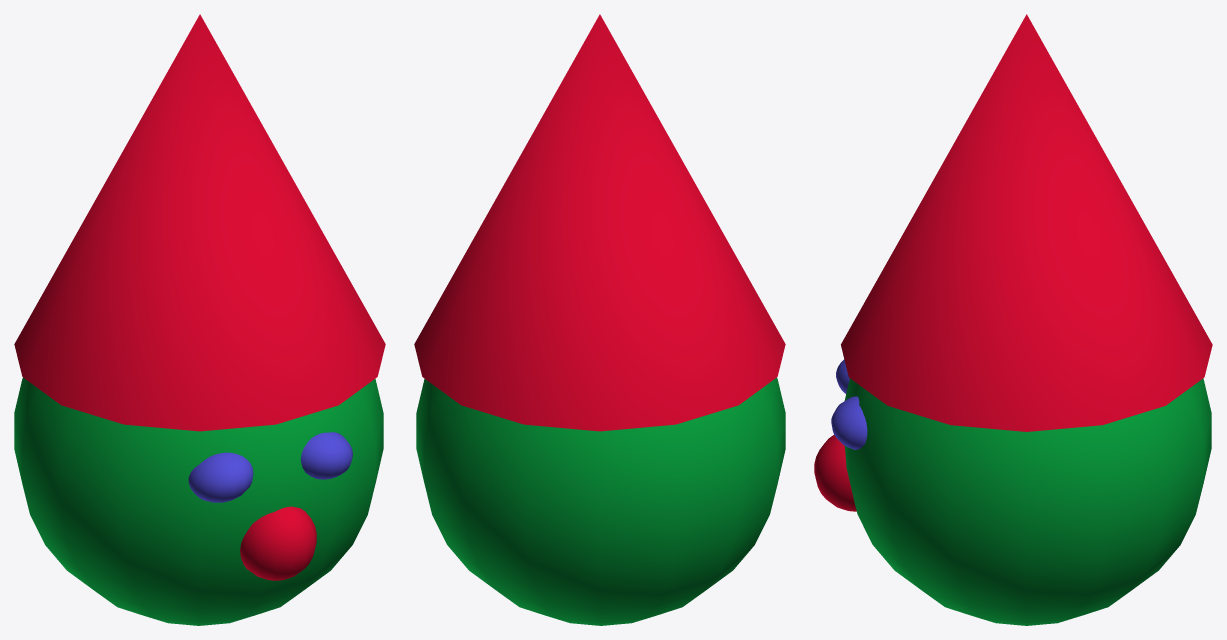
Rendered from Toy.fbx.
3 renders of one model, left to right at view 1: azimuth 30°, elevation 25°; view 2: azimuth 150°, elevation 25°; view 3: azimuth 270°, elevation 25°, orthographic.
Visible parts, largest first — view 1: pSphere22; view 2: pSphere22; view 3: pSphere22.
Part boxes in pixels (x1,y1,x2,y2): pSphere22: [14, 14, 385, 625]; pSphere22: [414, 14, 785, 625]; pSphere22: [814, 14, 1212, 625].
Size of the model in its own units: 1.58 by 2.81 by 1.7.
